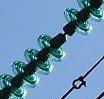gap: (36, 7, 92, 63)
